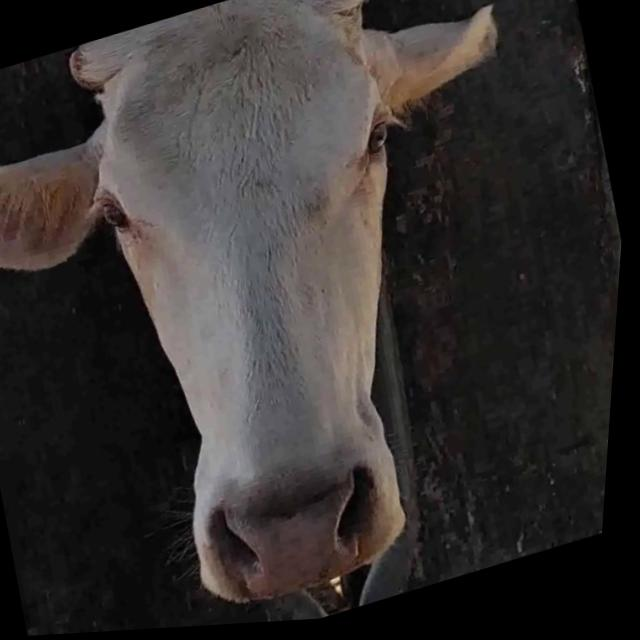cowFace: (38, 0, 503, 635)
